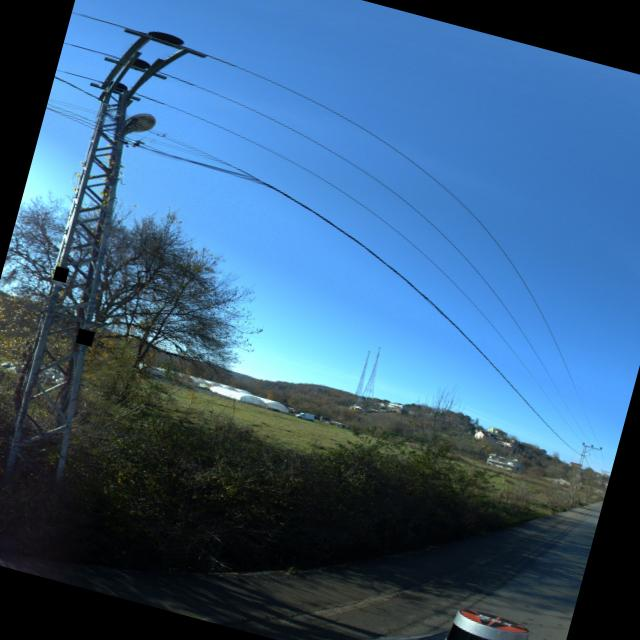Utility Pole Information Plate: (76, 328, 95, 347), (52, 265, 69, 283)
